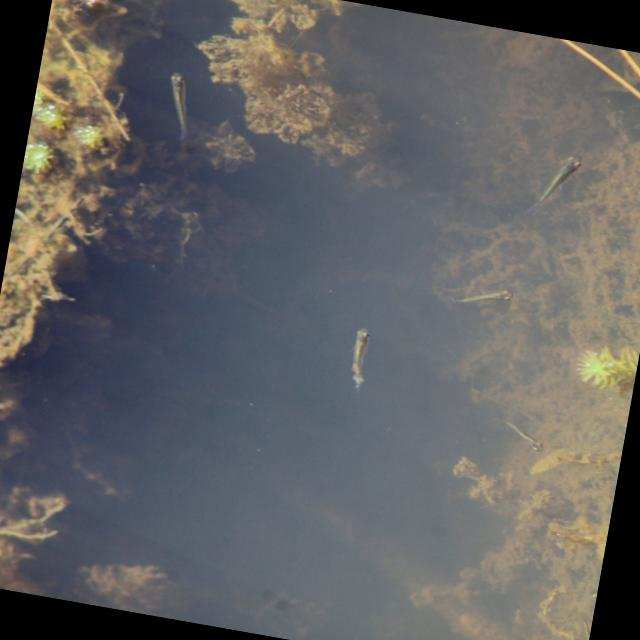Sivrisinek Baligi: (522, 145, 589, 219), (153, 66, 210, 142), (340, 322, 380, 394), (448, 276, 520, 314), (495, 416, 553, 454)
